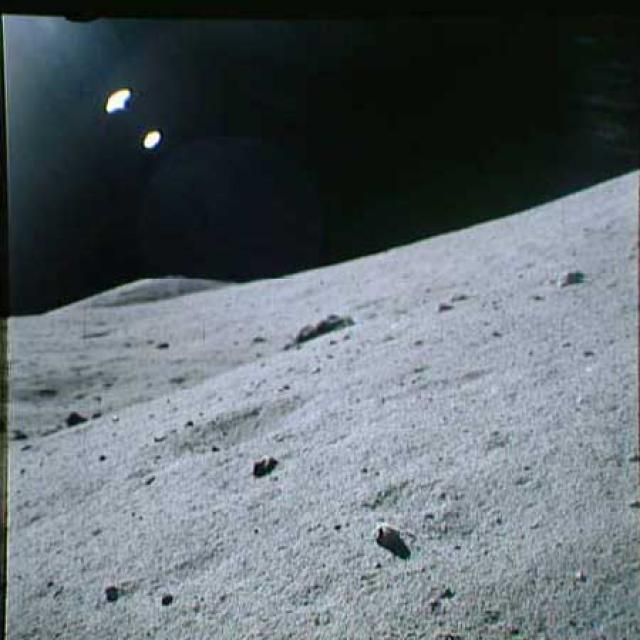crater: (145, 392, 318, 449)
rock: (281, 304, 359, 351), (233, 449, 280, 485), (550, 263, 590, 292), (58, 399, 90, 434)
